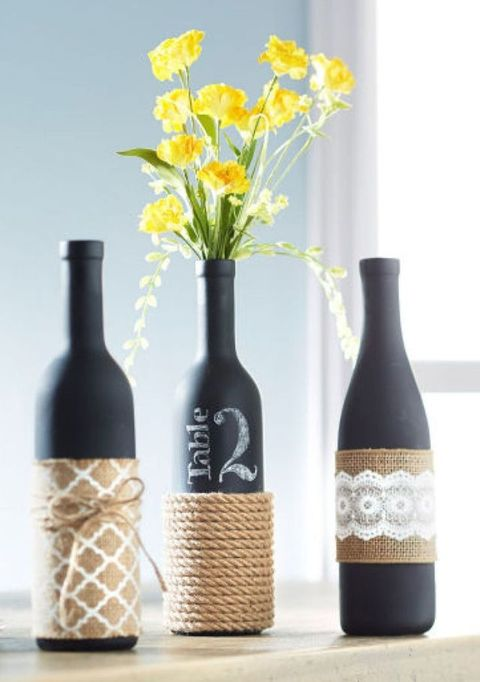glass_bottle: (27, 235, 147, 660), (324, 254, 446, 639), (161, 254, 281, 642)
